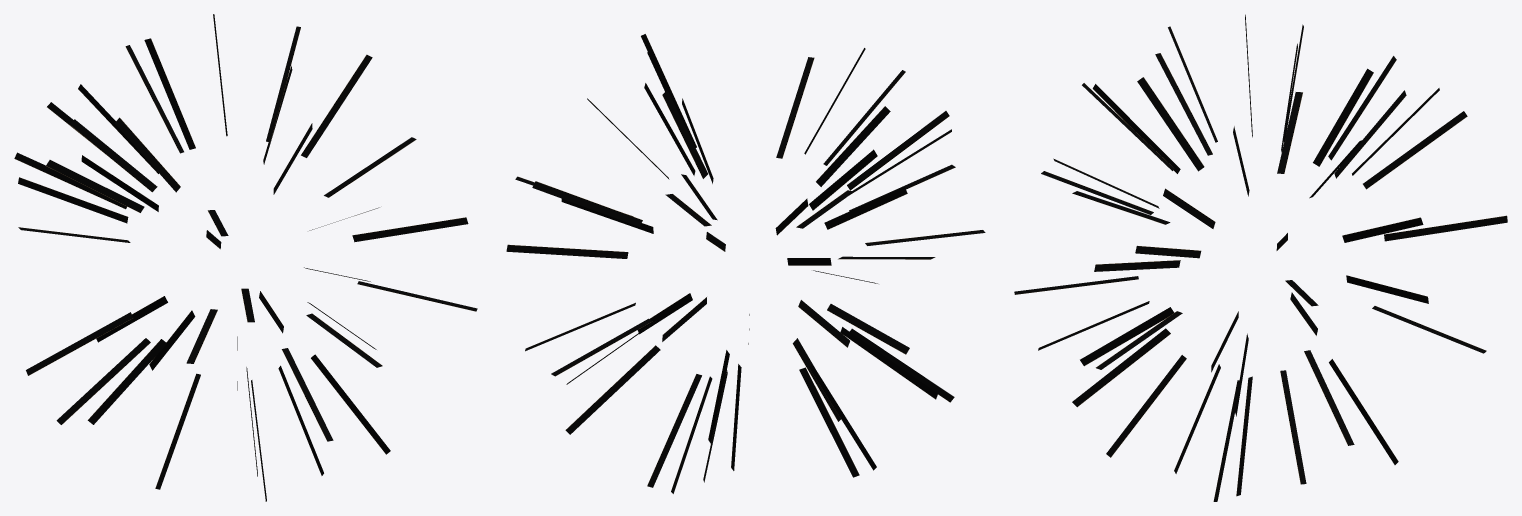
The picture shows the model from 3 angles, left to right: view 1: azimuth 30°, elevation 25°; view 2: azimuth 150°, elevation 25°; view 3: azimuth 270°, elevation 25°; orthographic projection.
Visible parts, largest first — view 1: T1L3M003_11; view 2: T1L3M003_11; view 3: T1L3M003_11.
Part boxes in pixels (x1,y1,x2,y2): T1L3M003_11: (14,14,477,501); T1L3M003_11: (506,34,985,493); T1L3M003_11: (1014,14,1507,501).
Bounding box in the file's own units: 3.85 × 3.83 × 3.94.
